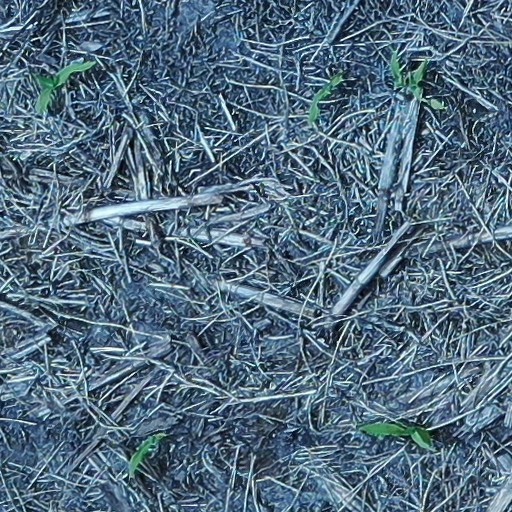planta: (35, 60, 96, 113), (408, 59, 445, 108), (360, 422, 429, 447), (309, 73, 343, 123), (129, 433, 165, 475), (392, 53, 404, 86)
